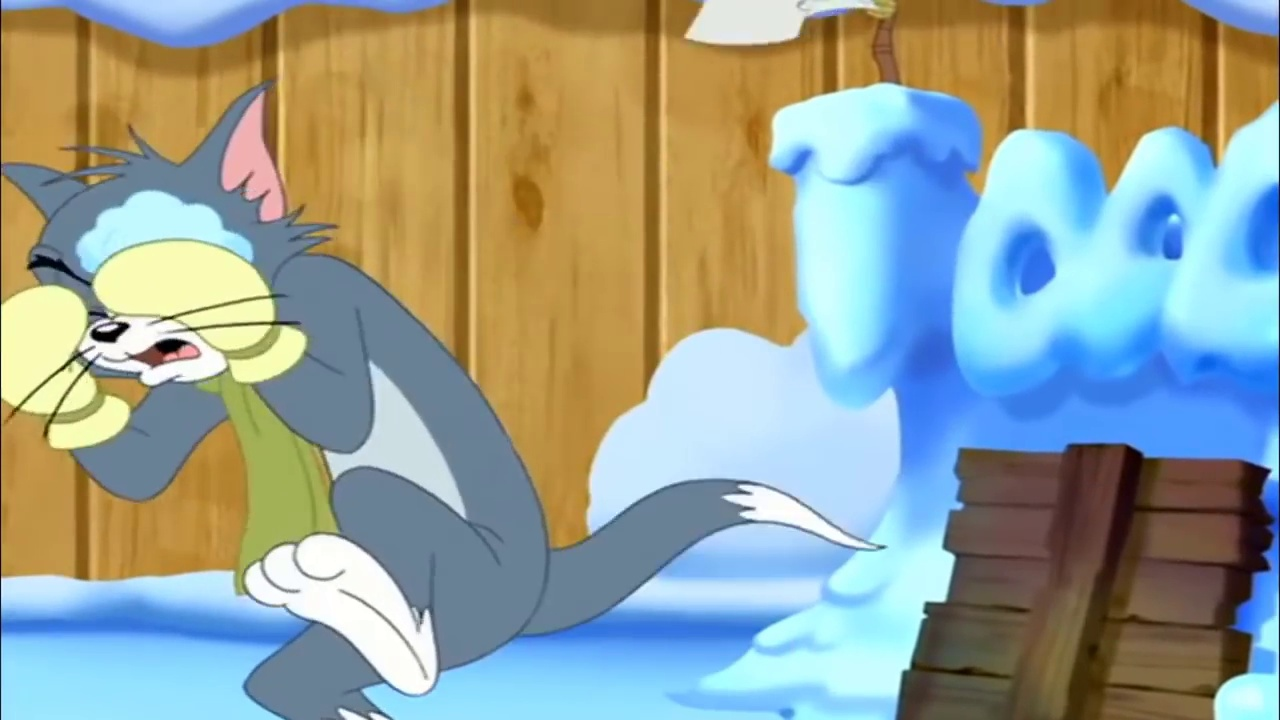face: (28, 206, 232, 388)
